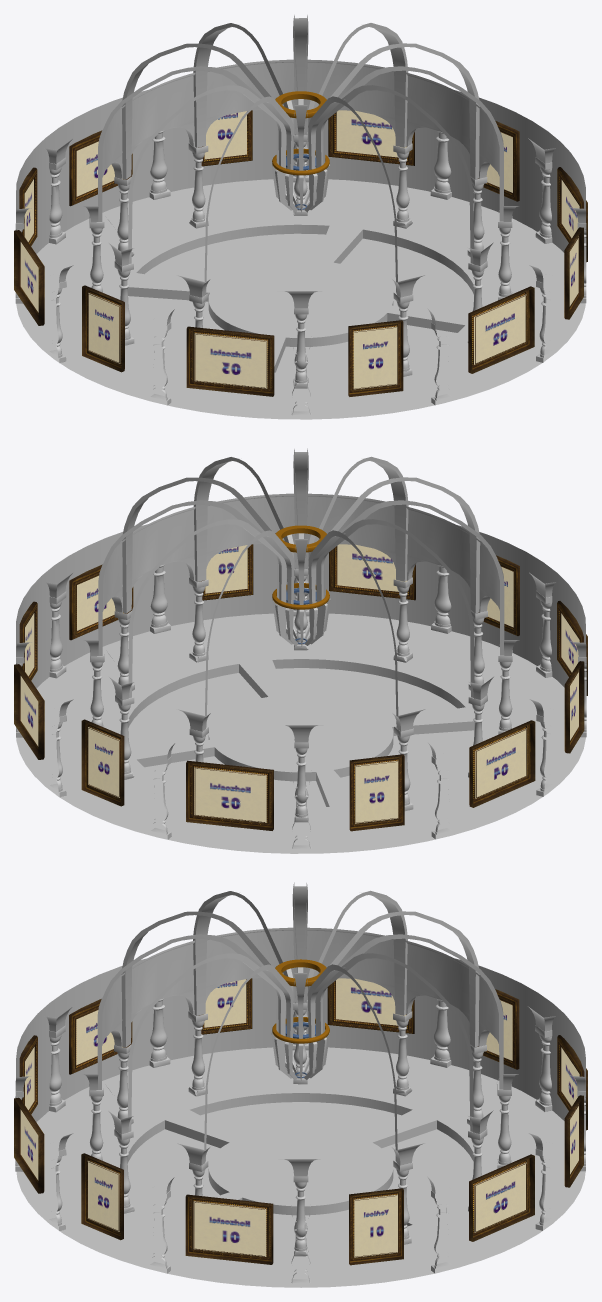
3 views of the same model, one above another, from view 1: azimuth 30°, elevation 25°; view 2: azimuth 150°, elevation 25°; view 3: azimuth 270°, elevation 25° (orthographic).
Visible parts, largest first — view 1: Floor_Wall_1, Column_Ceiling_0, Picture_Horizontal_2, Picture_Vertical_3, Rings_4; view 2: Floor_Wall_1, Column_Ceiling_0, Picture_Horizontal_2, Picture_Vertical_3, Rings_4; view 3: Floor_Wall_1, Column_Ceiling_0, Picture_Horizontal_2, Picture_Vertical_3, Rings_4.
Part boxes in pixels (x1,y1,x2,y2): Floor_Wall_1: (16, 90, 585, 419); Column_Ceiling_0: (15, 15, 586, 414); Picture_Horizontal_2: (14, 110, 587, 396); Picture_Vertical_3: (19, 110, 583, 396); Rings_4: (272, 91, 329, 209); Floor_Wall_1: (16, 524, 585, 853); Column_Ceiling_0: (16, 448, 586, 848); Picture_Horizontal_2: (14, 544, 587, 830); Picture_Vertical_3: (19, 544, 584, 831); Rings_4: (272, 525, 329, 643); Floor_Wall_1: (16, 958, 585, 1287); Column_Ceiling_0: (15, 882, 585, 1282); Picture_Horizontal_2: (14, 978, 587, 1264); Picture_Vertical_3: (19, 978, 583, 1265); Rings_4: (272, 959, 329, 1077).
Size of the model in its own units: 17.18 by 8.09 by 17.2.
